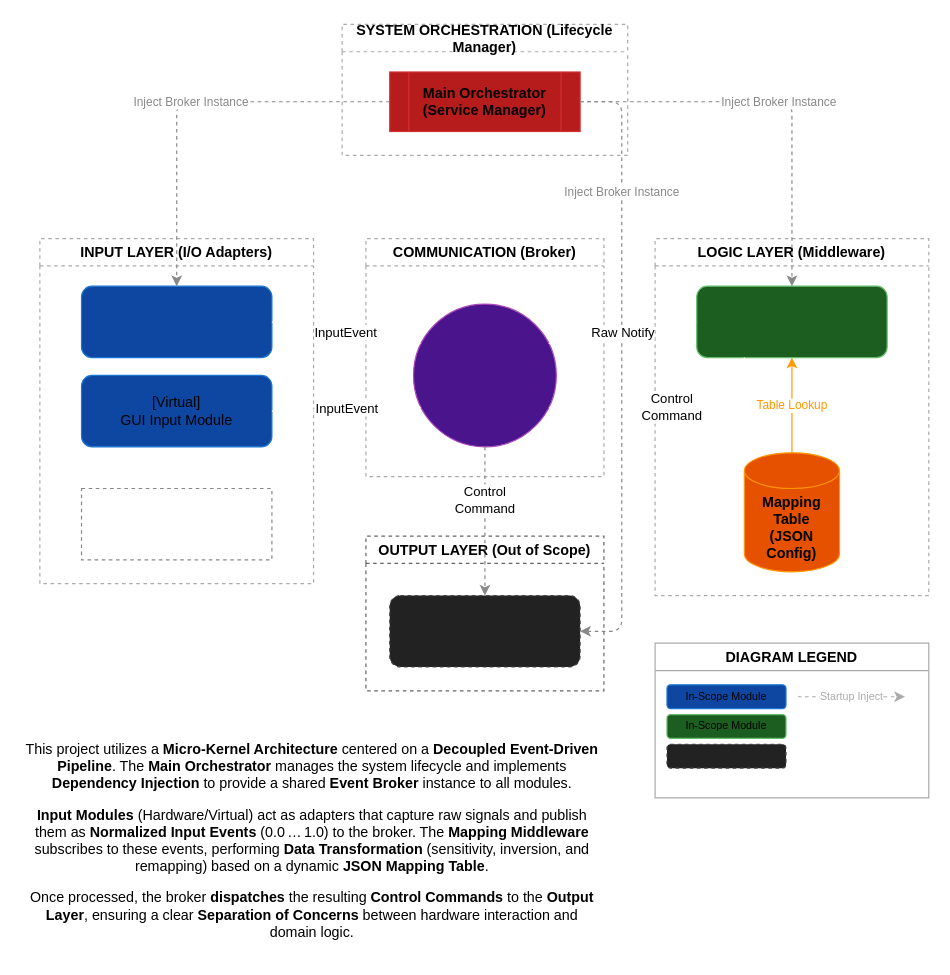
The diagram is 950 pixels wide and 975 high, and some of its shapes have lost their labels. Here are the shapes that lost their labels. From the top down, the centre of each, then its label:
pixel 176 321: [Hardware] Steam Deck Driver
pixel 791 321: Mapping Middleware (Transformation)
pixel 484 375: Event Broker (Pub/Sub Hub)
pixel 176 523: BaseInput Class (Interface Contract)
pixel 484 630: Output Adapter (e.g. ArtNet Mock)
pixel 726 755: Out-of-Scope / Stub
